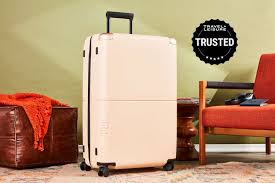suitcase: (78, 12, 182, 177)
